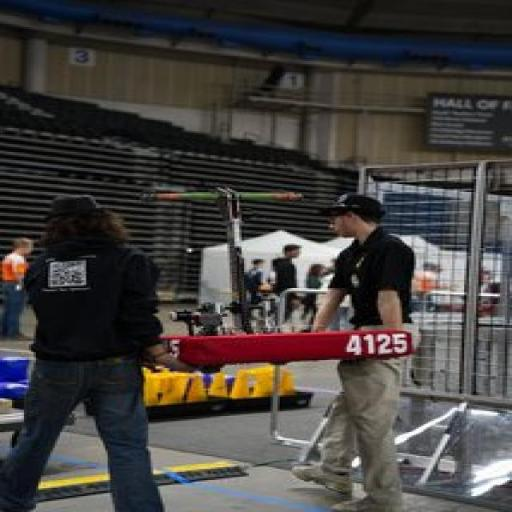robot: (144, 181, 434, 367)
